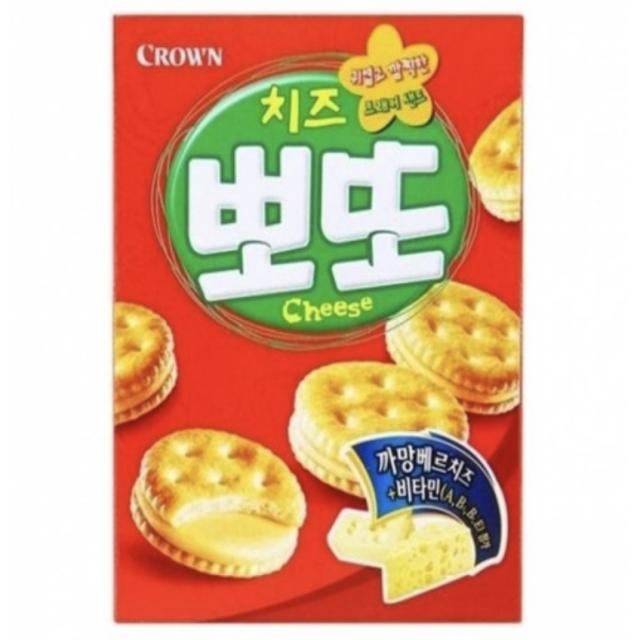biodegradable: (92, 4, 546, 634)
